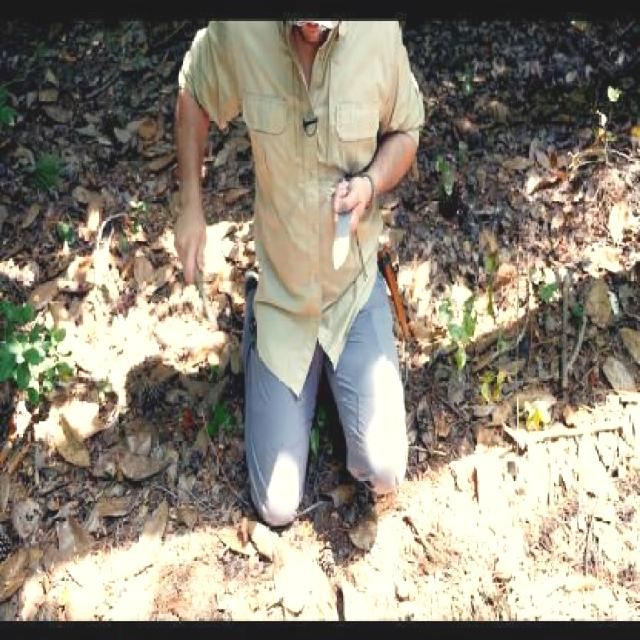knife: (328, 170, 368, 278)
